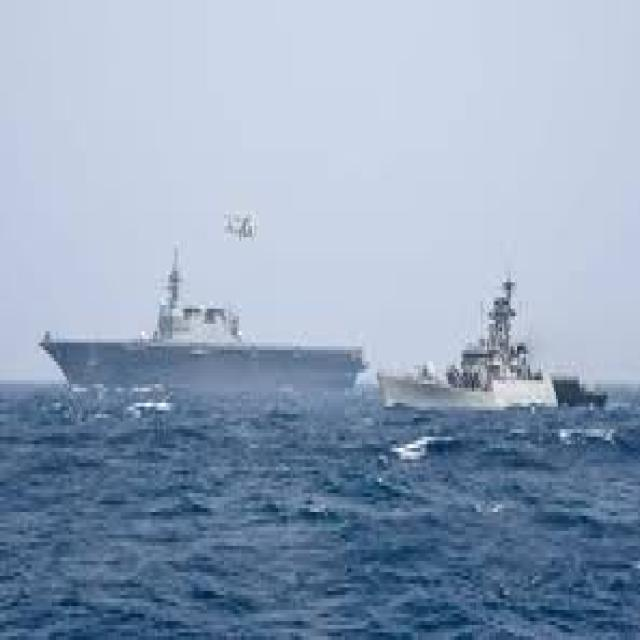navalvessels: (40, 264, 373, 407), (363, 271, 608, 419)
